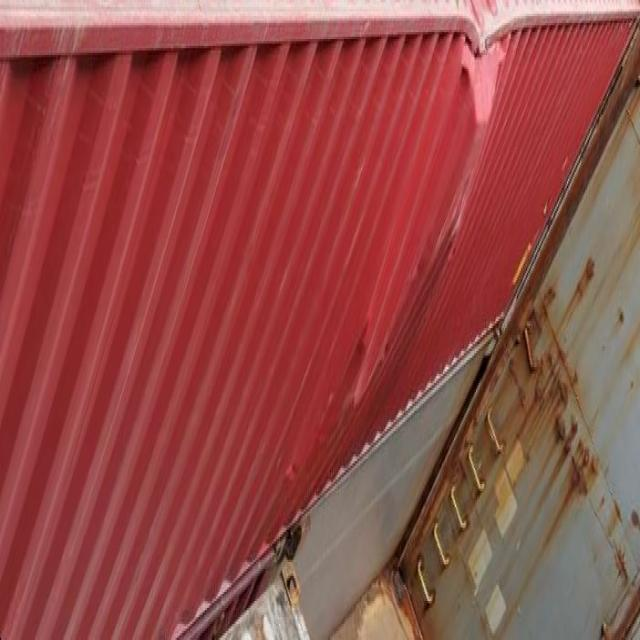dent: (336, 312, 378, 423)
